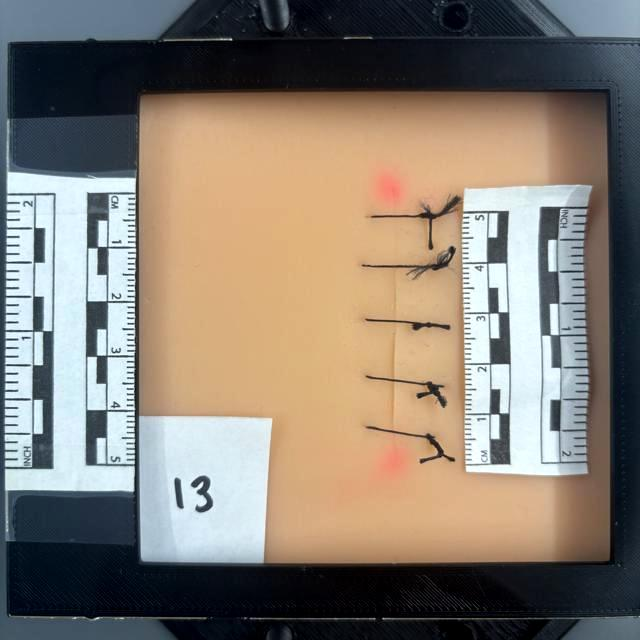incision_line: (383, 190, 401, 464)
scale_marker: (108, 192, 136, 246)
suture_d: (383, 379, 404, 433), (390, 267, 408, 324), (386, 323, 402, 380), (391, 215, 408, 264)
suture_l: (364, 370, 394, 384), (365, 424, 394, 436), (363, 260, 394, 271), (366, 315, 393, 327), (365, 212, 394, 220)
suture_r: (395, 260, 441, 274), (394, 374, 432, 390), (396, 426, 432, 442), (394, 316, 429, 328), (394, 211, 432, 220)
